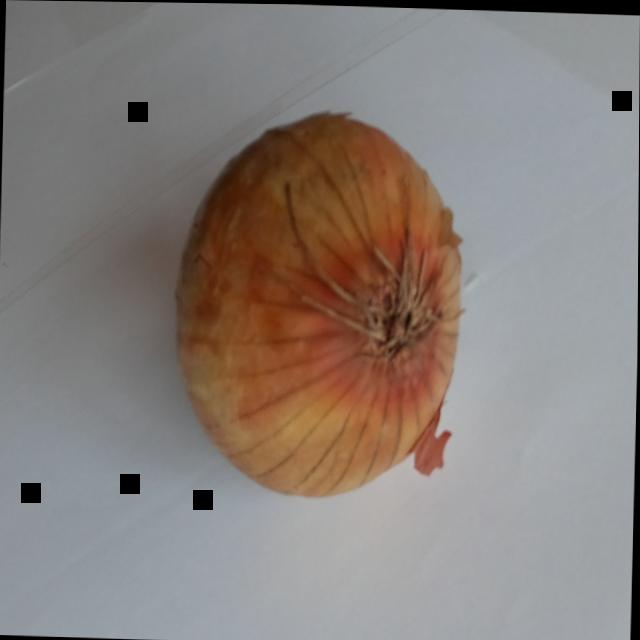Onion: (154, 84, 491, 552)
